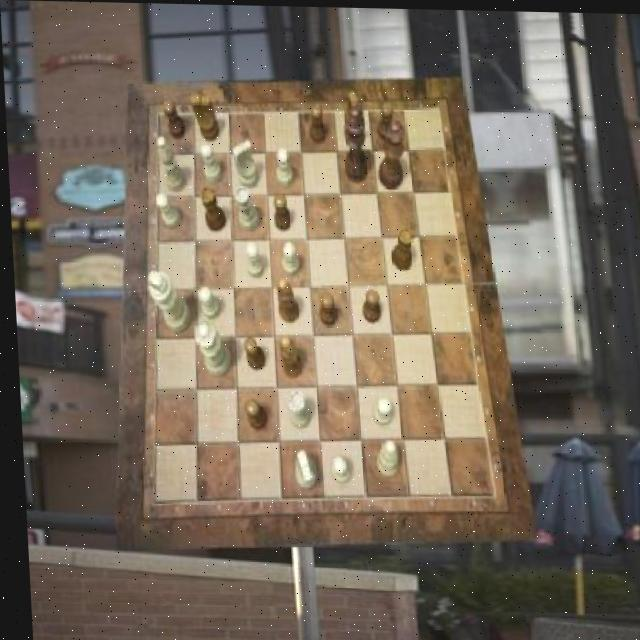bishop: (273, 275, 298, 321), (276, 334, 300, 377)
black-bishop: (339, 103, 366, 183)
black-king: (188, 94, 218, 140), (341, 89, 363, 143)
black-knight: (161, 99, 184, 138), (240, 397, 264, 429), (374, 102, 393, 141), (306, 102, 324, 143), (240, 338, 261, 371), (271, 191, 289, 229), (315, 291, 334, 326), (359, 288, 378, 322)
black-pawn: (374, 117, 406, 187)
black-queen: (197, 185, 223, 230), (387, 225, 412, 270)
black-rook: (154, 135, 183, 192), (370, 438, 394, 476)
white-bishop: (145, 270, 187, 333)
white-king: (231, 139, 257, 187), (289, 449, 313, 488)
white-knight: (153, 192, 179, 227), (198, 143, 220, 184), (195, 286, 217, 319), (272, 148, 290, 187), (242, 241, 261, 276), (279, 240, 297, 275), (367, 397, 388, 425), (327, 455, 347, 482)
white-pawn: (190, 318, 227, 376)
white-queen: (232, 185, 257, 231), (284, 389, 308, 427)
